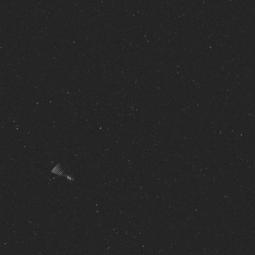debris: (46, 150, 78, 186)
